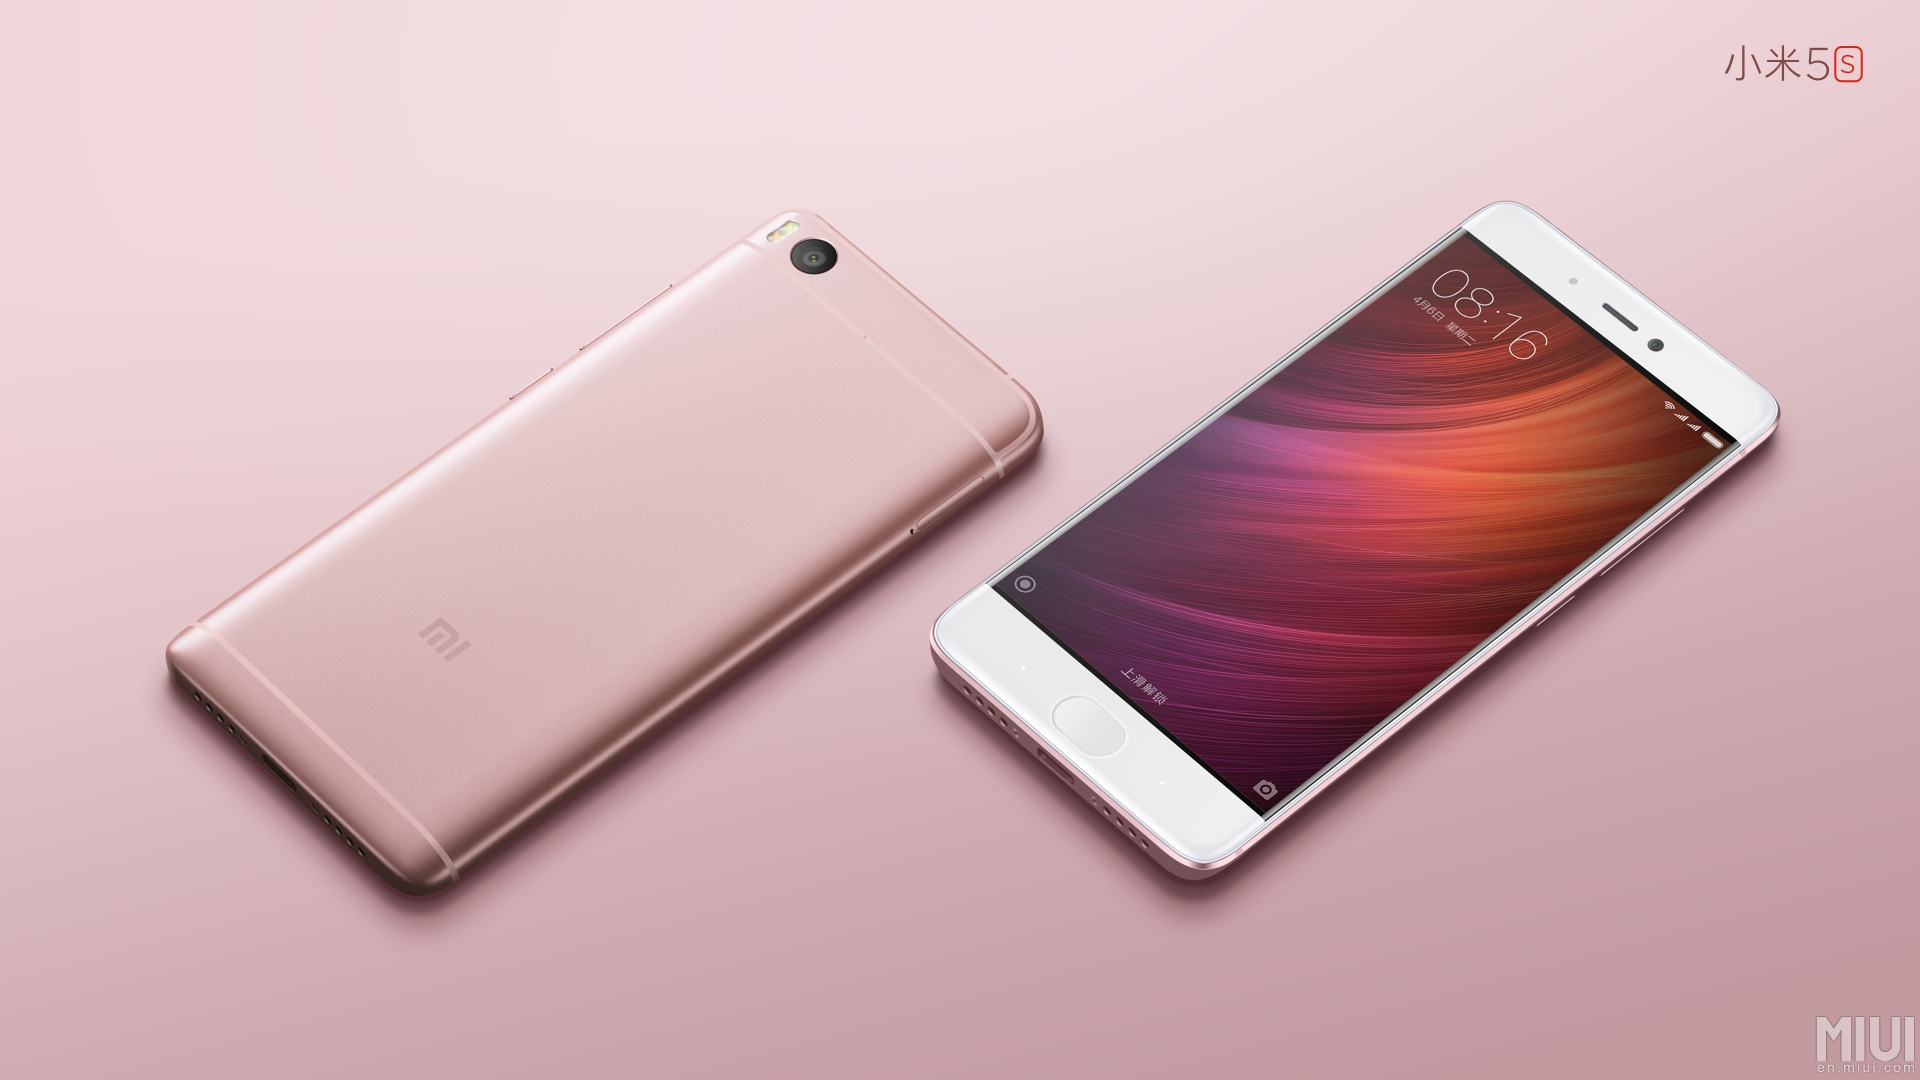smartphone: (165, 208, 1044, 905), (930, 200, 1782, 884)
